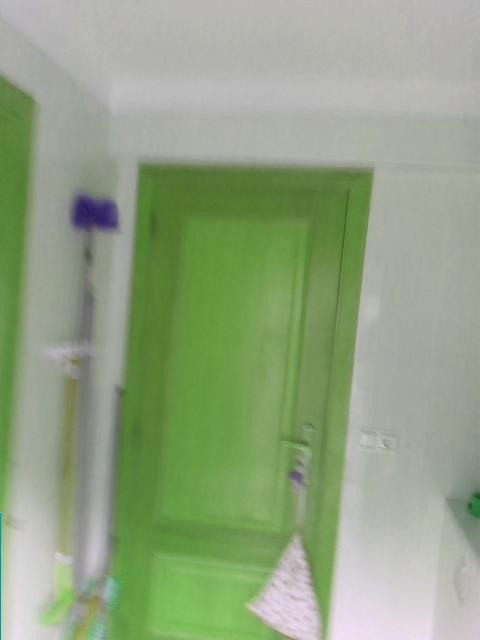closed_door: (100, 159, 375, 639)
